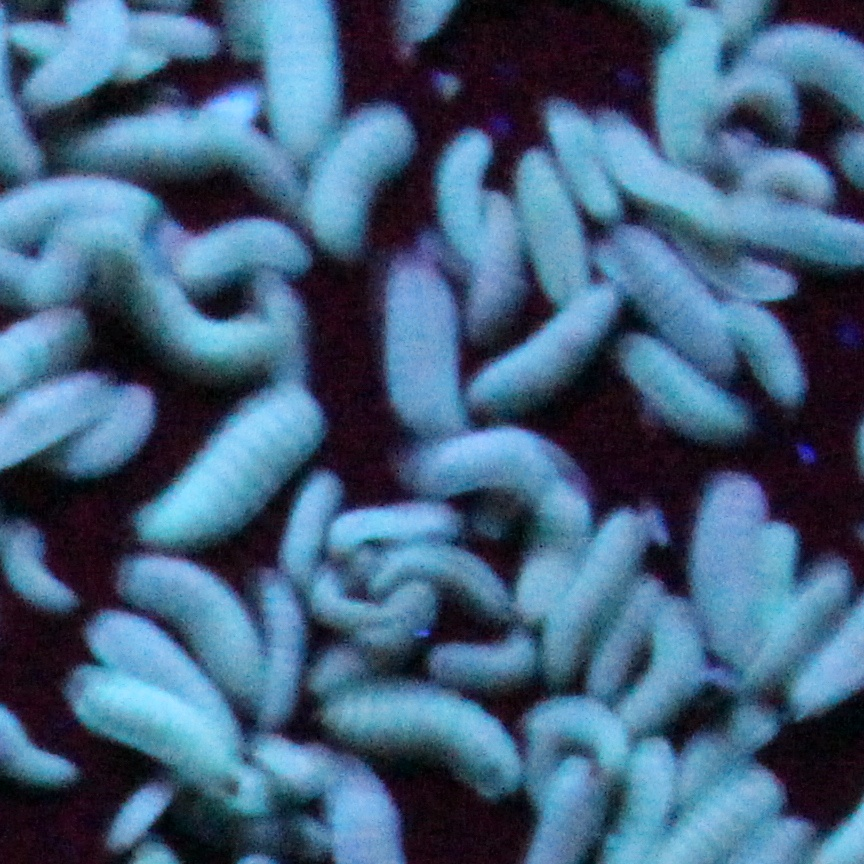larve: (132, 387, 332, 552), (311, 666, 528, 795), (108, 543, 272, 712), (59, 661, 241, 788), (366, 257, 481, 448), (470, 275, 624, 415), (536, 508, 657, 686), (297, 92, 421, 258), (602, 226, 739, 358), (614, 323, 763, 444), (686, 472, 772, 681), (639, 28, 731, 167), (53, 372, 158, 487), (541, 95, 632, 225), (772, 544, 859, 677), (162, 221, 320, 288), (478, 193, 539, 343), (518, 690, 627, 773), (592, 573, 662, 690), (432, 120, 493, 248), (732, 308, 810, 404)
